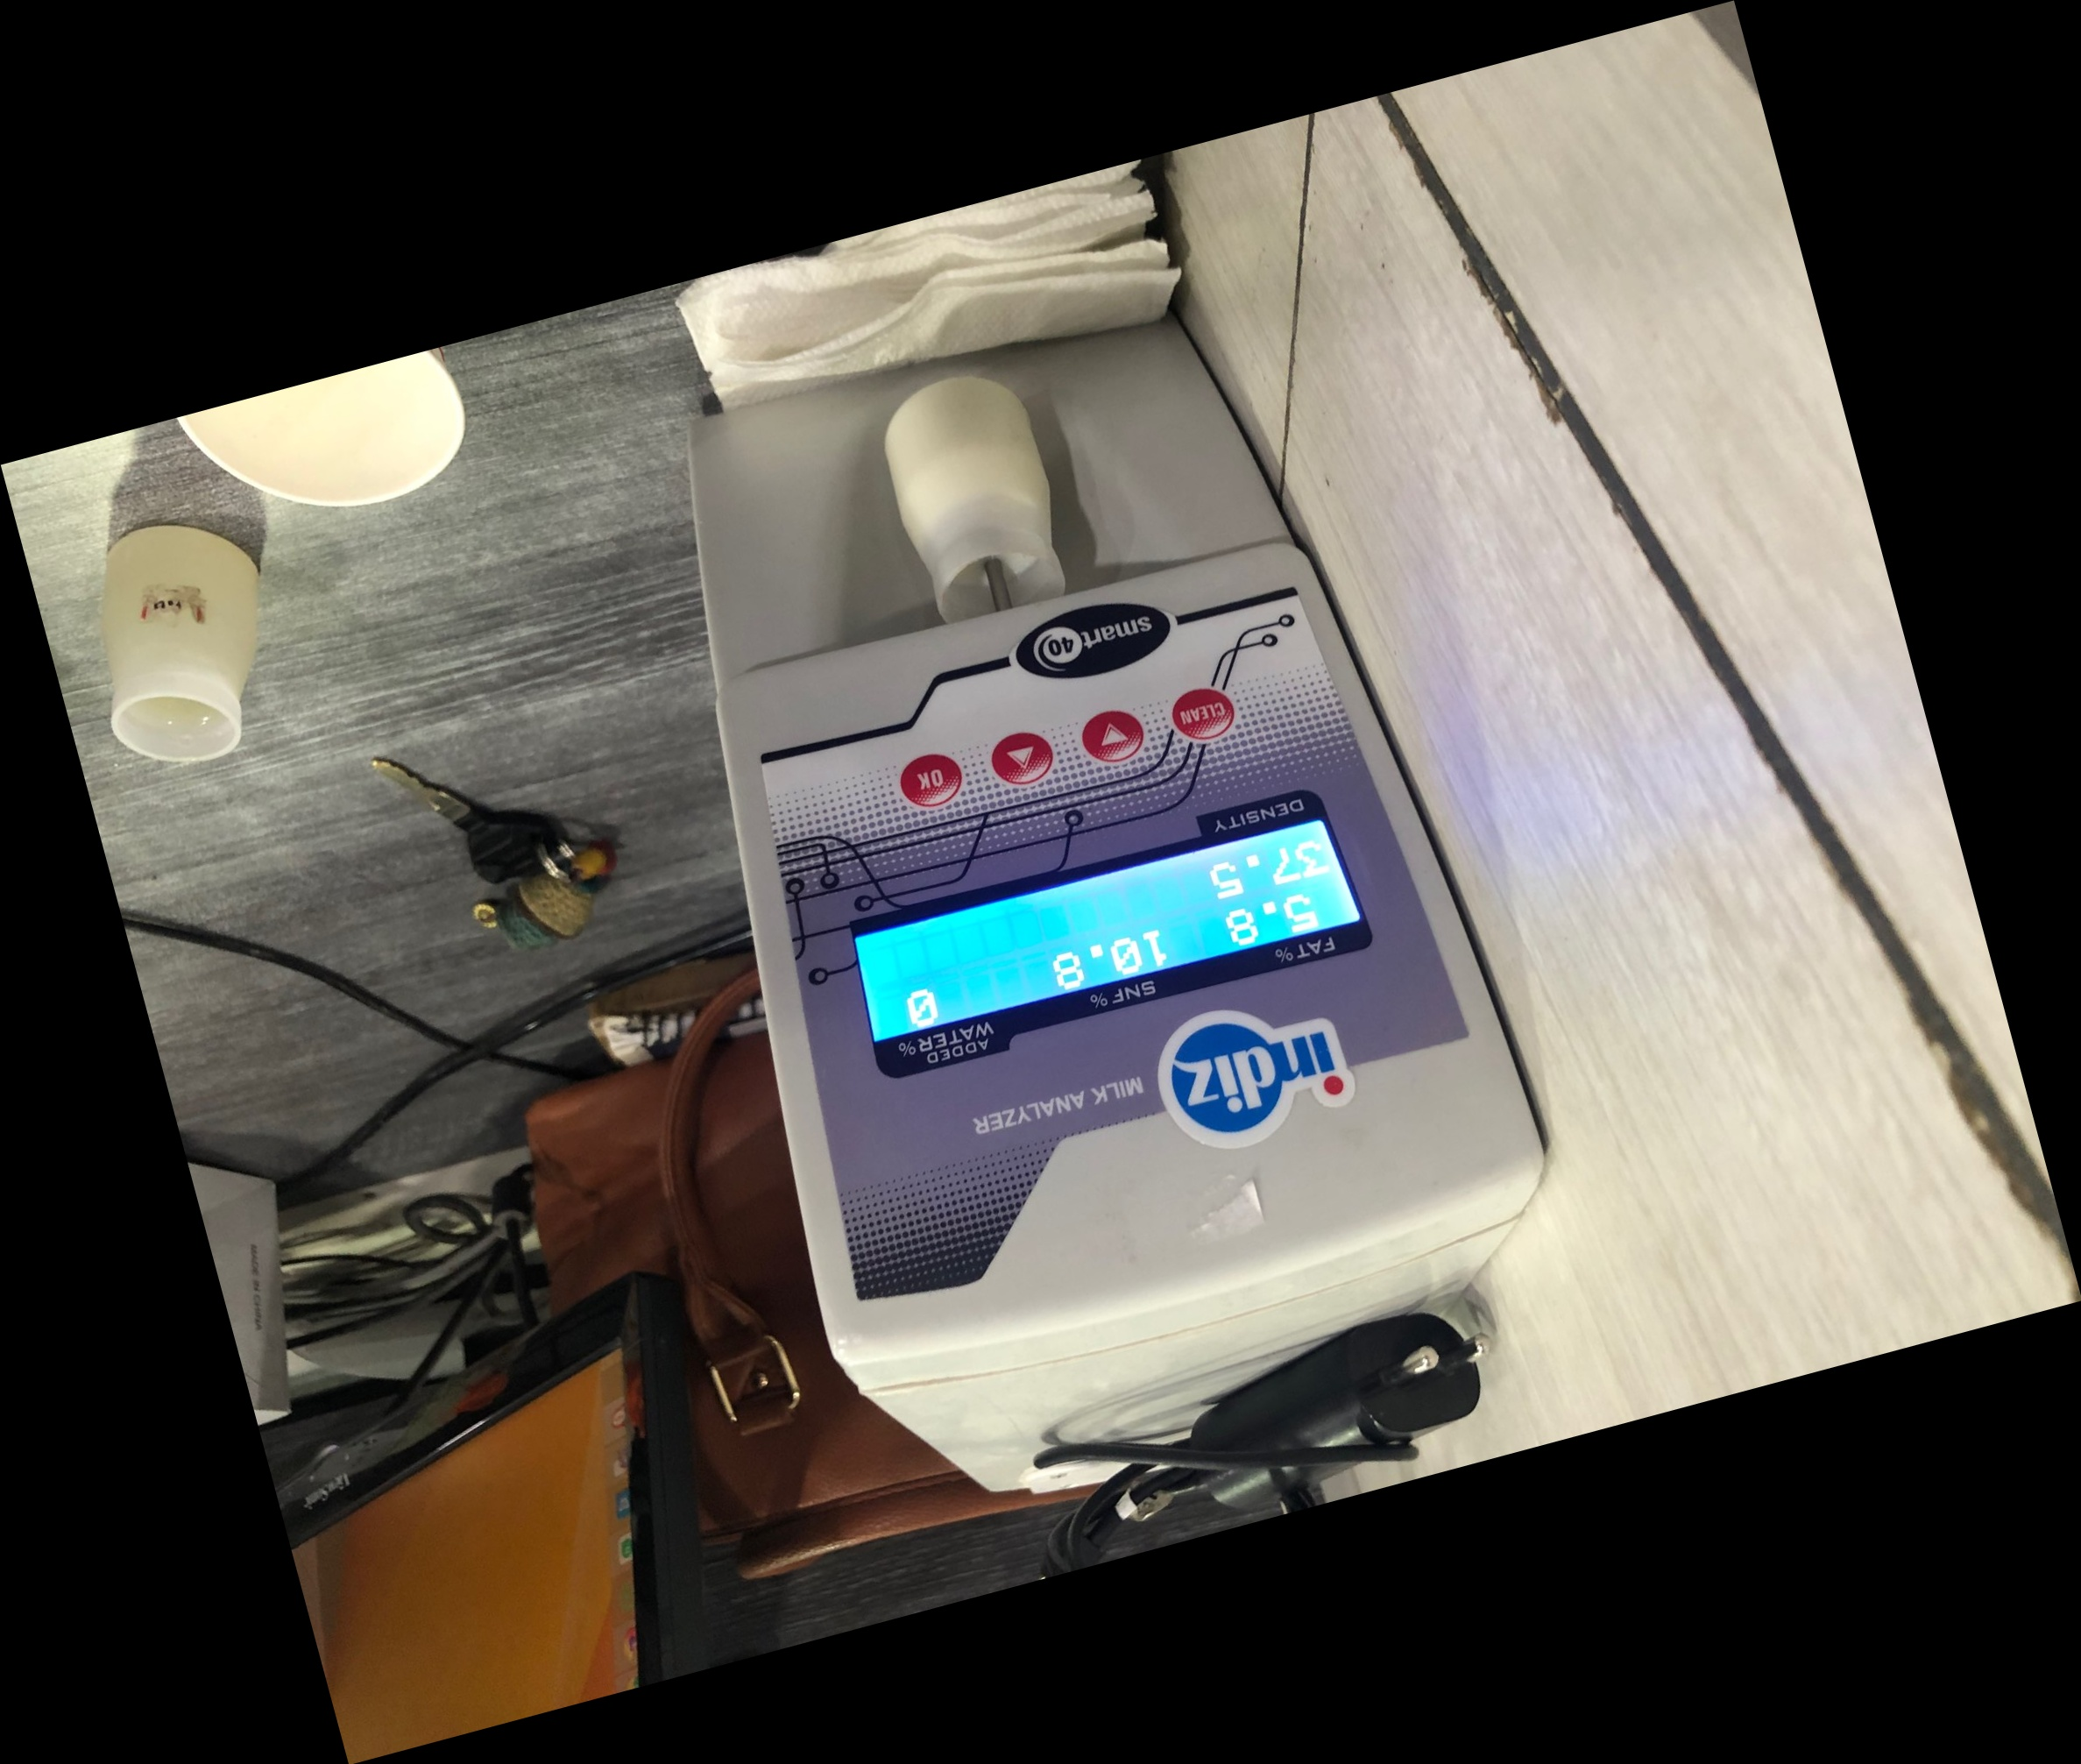lcd: (826, 816, 1423, 1087)
